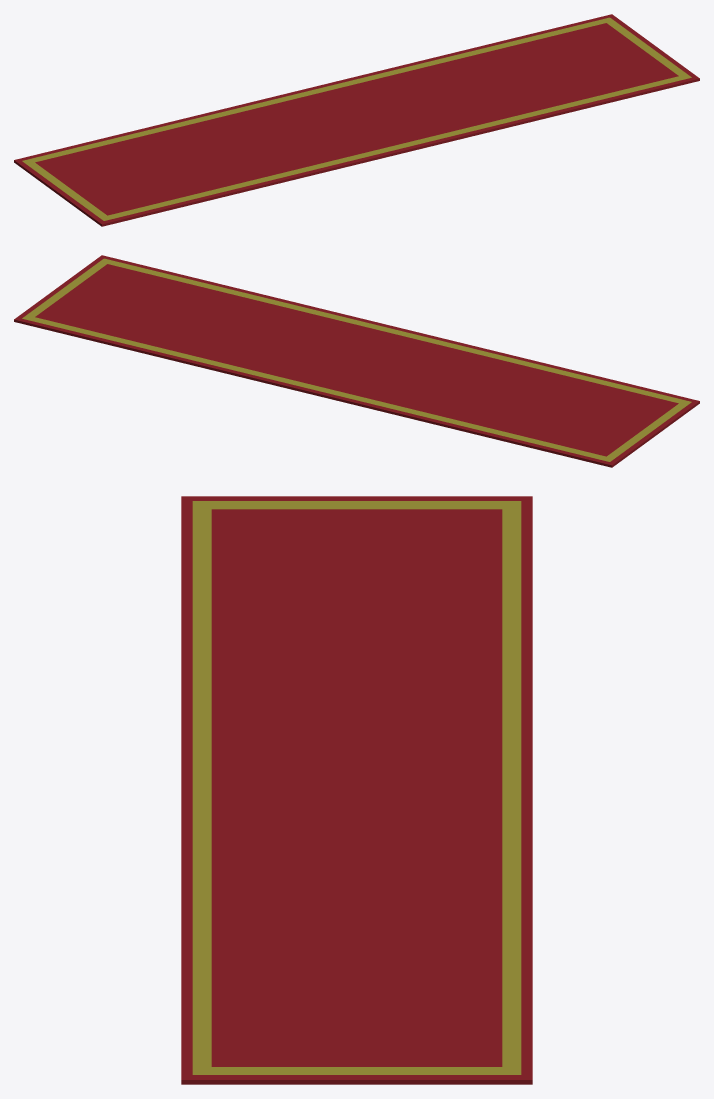
Rendered from Rug.fbx.
3 renders of one model, top to bottom at view 1: azimuth 30°, elevation 25°; view 2: azimuth 150°, elevation 25°; view 3: azimuth 270°, elevation 25°, orthographic. The views are drawn at different scales.
Visible parts, largest first — view 1: Plane; view 2: Plane; view 3: Plane.
Part boxes in pixels (x1=…): Plane: x1=14, y1=14, x2=699, y2=226; Plane: x1=14, y1=255, x2=699, y2=467; Plane: x1=181, y1=496, x2=532, y2=1084.
Bounding box in the file's own units: 1611 × 6.13 × 410.
